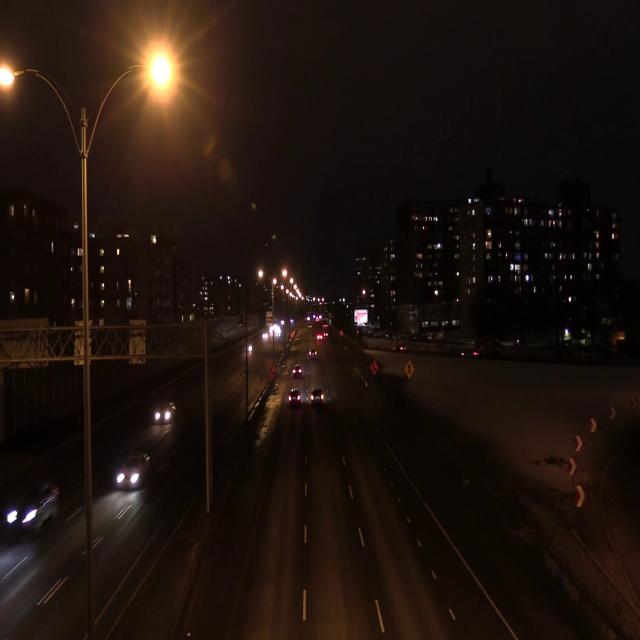car: (6, 481, 60, 535), (116, 453, 150, 489), (154, 402, 176, 423), (310, 388, 324, 405), (288, 388, 301, 405), (292, 364, 302, 378), (309, 348, 317, 356)
